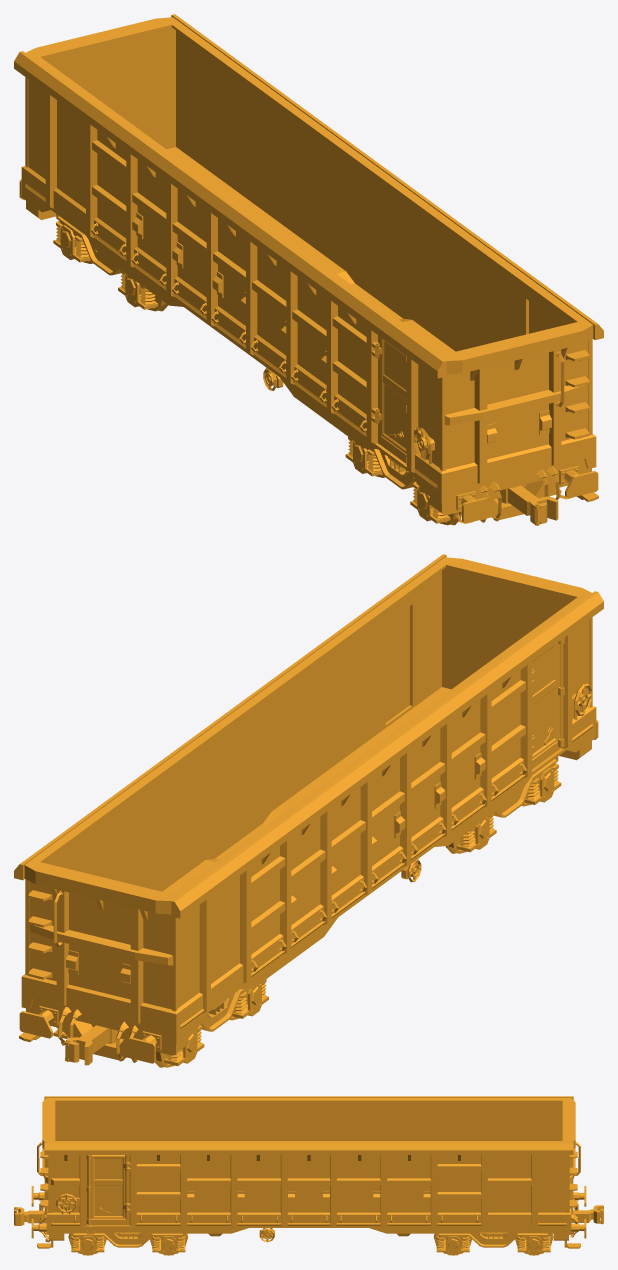
The model's file is SM_Train_Wagon_Cargo_A.fbx.
The picture shows the model from 3 angles, top to bottom: view 1: azimuth 30°, elevation 25°; view 2: azimuth 150°, elevation 25°; view 3: azimuth 270°, elevation 25°; orthographic projection. The views are drawn at different scales.
Visible parts, largest first — view 1: SM_Train_Wagon_Cargo_A_Base, SM_Train_Wagon_Cargo_A_Base_Chassis_B, SM_Train_Wagon_Cargo_A_Base_Chassis_F, SM_Train_Wagon_Cargo_A_Base_Joint_F; view 2: SM_Train_Wagon_Cargo_A_Base, SM_Train_Wagon_Cargo_A_Base_Chassis_B, SM_Train_Wagon_Cargo_A_Base_Chassis_F, SM_Train_Wagon_Cargo_A_Base_Joint_B; view 3: SM_Train_Wagon_Cargo_A_Base, SM_Train_Wagon_Cargo_A_Base_Chassis_B, SM_Train_Wagon_Cargo_A_Base_Chassis_F, SM_Train_Wagon_Cargo_A_Base_Joint_F, SM_Train_Wagon_Cargo_A_Base_Joint_B.
Part boxes in pixels (x1=…): SM_Train_Wagon_Cargo_A_Base: x1=14, y1=14, x2=603, y2=523; SM_Train_Wagon_Cargo_A_Base_Chassis_B: x1=53, y1=214, x2=158, y2=309; SM_Train_Wagon_Cargo_A_Base_Chassis_F: x1=345, y1=436, x2=561, y2=523; SM_Train_Wagon_Cargo_A_Base_Joint_F: x1=497, y1=485, x2=558, y2=525; SM_Train_Wagon_Cargo_A_Base: x1=14, y1=554, x2=603, y2=1063; SM_Train_Wagon_Cargo_A_Base_Chassis_B: x1=53, y1=979, x2=268, y2=1065; SM_Train_Wagon_Cargo_A_Base_Chassis_F: x1=456, y1=756, x2=561, y2=852; SM_Train_Wagon_Cargo_A_Base_Joint_B: x1=65, y1=1025, x2=120, y2=1065; SM_Train_Wagon_Cargo_A_Base: x1=31, y1=1096, x2=586, y2=1248; SM_Train_Wagon_Cargo_A_Base_Chassis_B: x1=436, y1=1228, x2=551, y2=1255; SM_Train_Wagon_Cargo_A_Base_Chassis_F: x1=70, y1=1228, x2=185, y2=1255; SM_Train_Wagon_Cargo_A_Base_Joint_F: x1=14, y1=1207, x2=46, y2=1225; SM_Train_Wagon_Cargo_A_Base_Joint_B: x1=571, y1=1205, x2=603, y2=1224.
Size of the model in its own units: 3 by 3.35 by 14.61.
